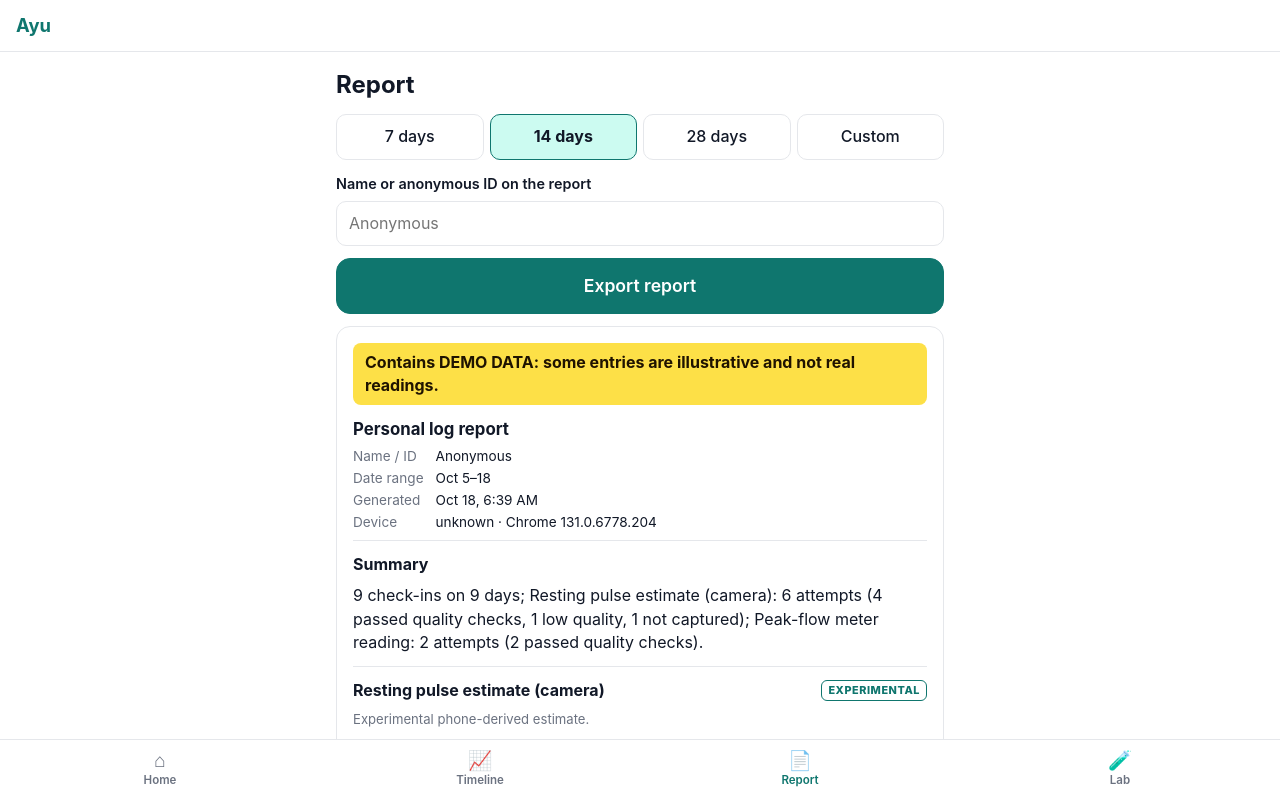
Test case: app routes › report renders with the demo banner and export preview
Expected: the text with class "report-demo-banner" reads "Contains DEMO DATA: some entries are illustrative and not real readings.", x1=365 y1=352 x2=855 y2=395
Step 1. Click the button "Export report" → (640, 286), box x1=336 y1=258 x2=944 y2=314
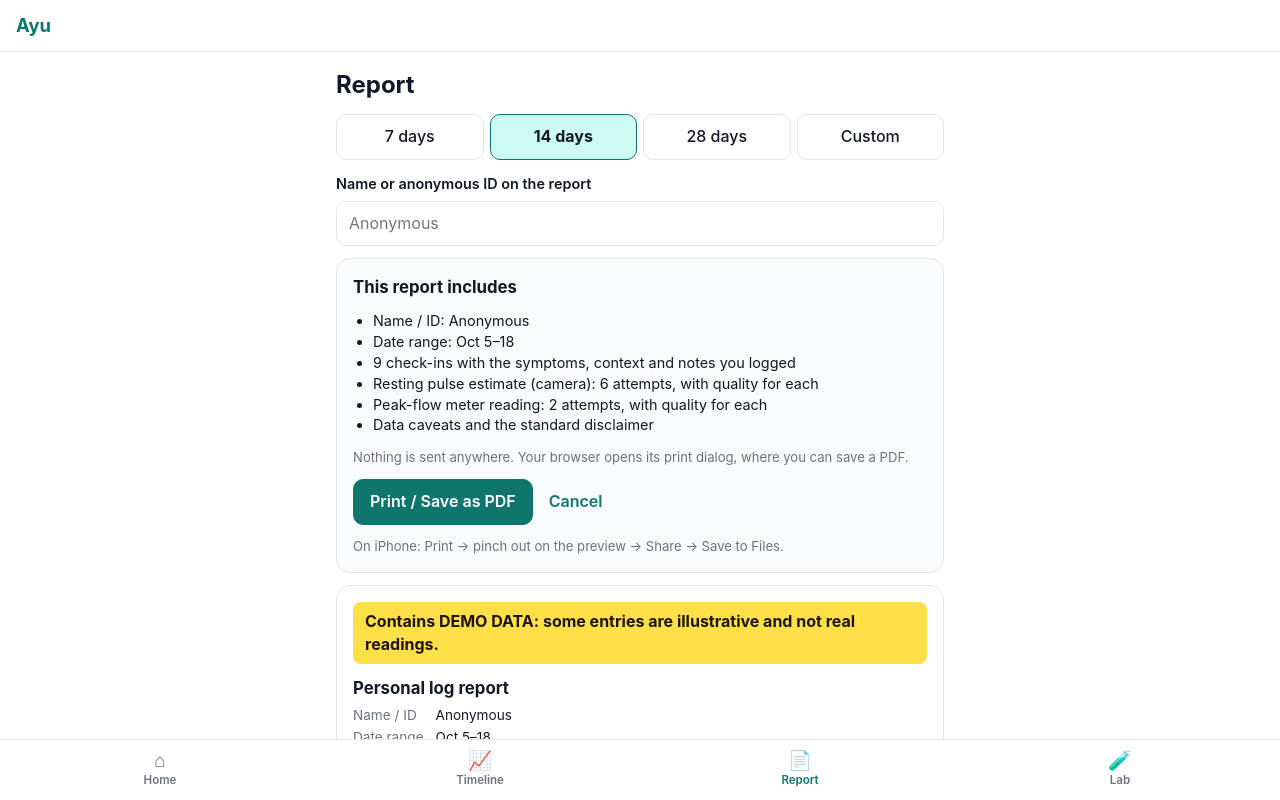
Expected: the heading "This report includes" is shown, x1=353 y1=277 x2=517 y2=297
